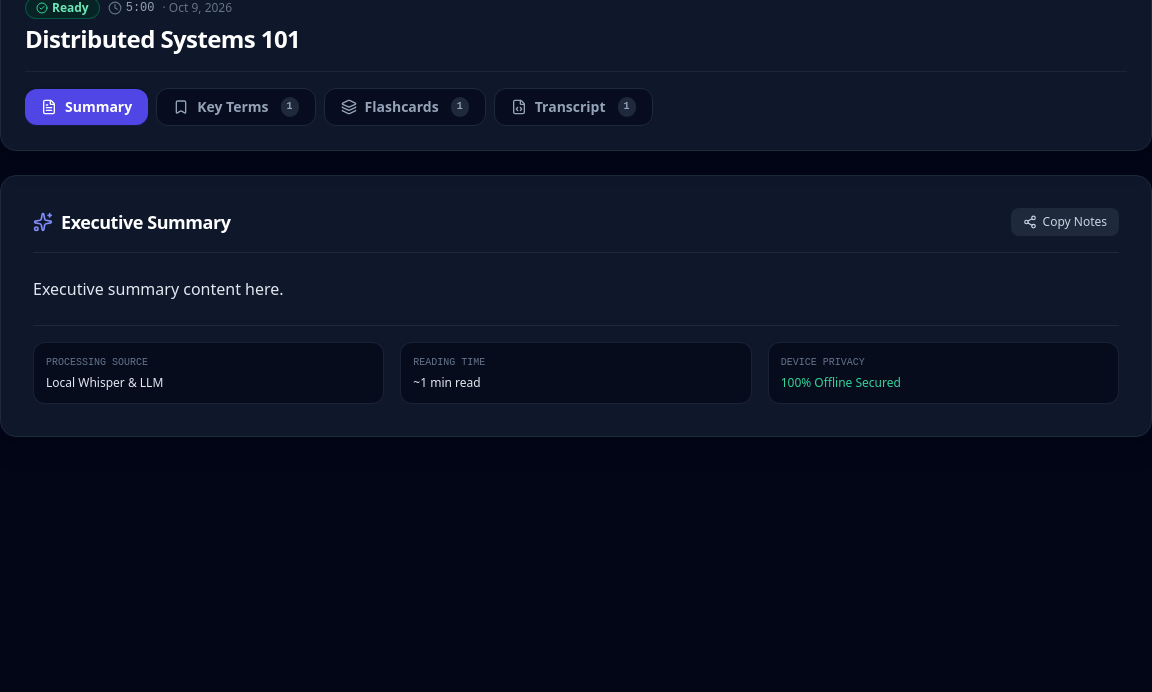
Test: LectureList & LecturePage › switches tabs in LecturePage using WAI-ARIA tab controls
The width and height of the screenshot is (1152, 692).
Check: the text "Executive summary content here." is shown, box [33,278,284,300]
Note: Click Key Terms tab
Click the tab "Key Terms 1".
click(236, 107)  # box [156,88,316,126]
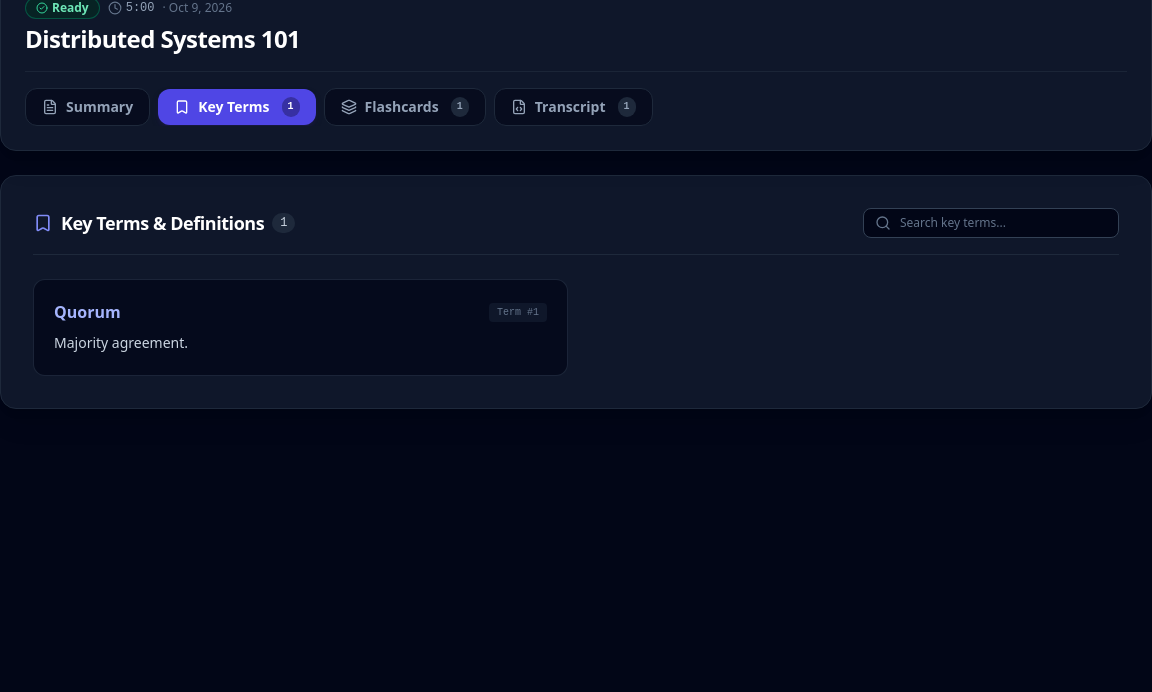
Check: the text "Quorum" is shown, box [54,300,121,324]
Check: the text "Majority agreement." is shown, box [54,333,188,352]
Note: Click Flashcards tab
Click the tab "Flashcards 1".
click(405, 107)  # box [324,88,486,126]
(page scrolled)
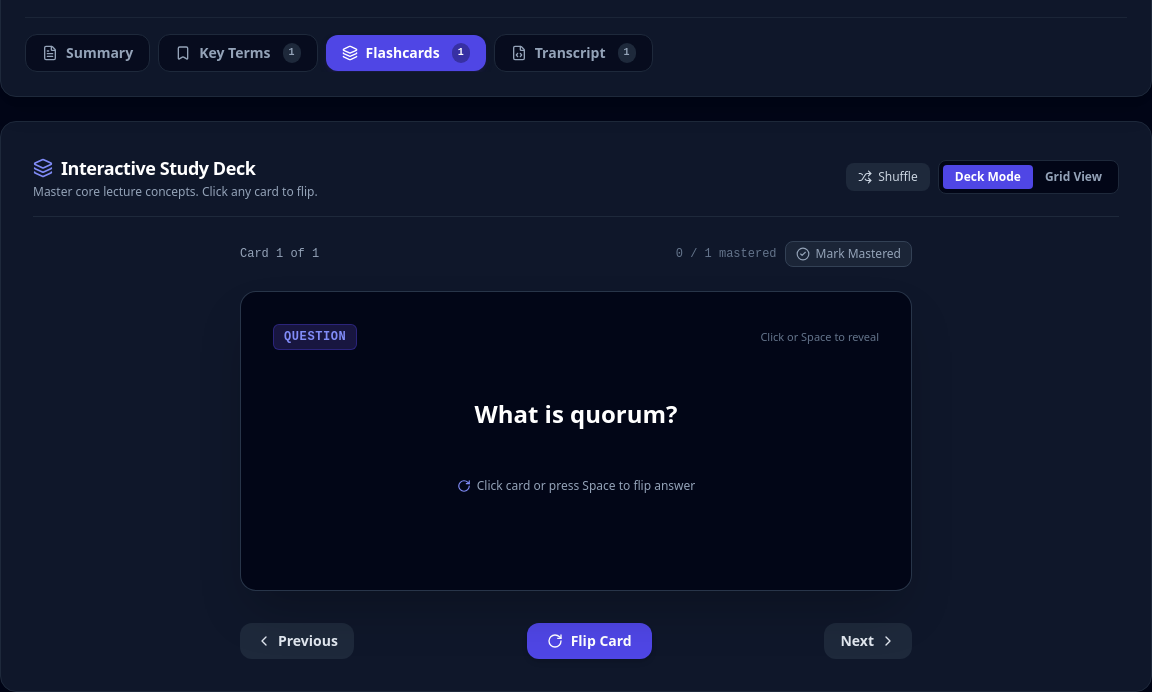
Check: the heading "What is quorum?" is shown, box [474,397,678,430]
Note: Flip flashcard
Click the button "Flip Card".
click(589, 641)  # box [527,623,652,659]
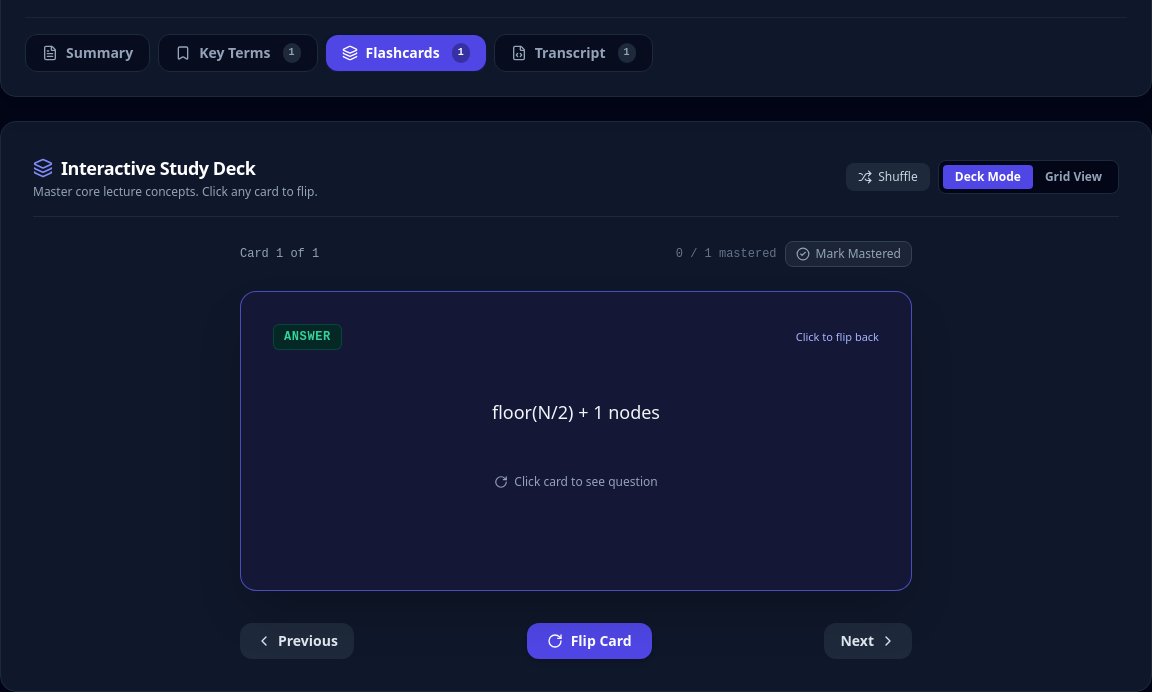
Check: the text "floor(N/2) + 1 nodes" is shown, box [492,400,660,424]
